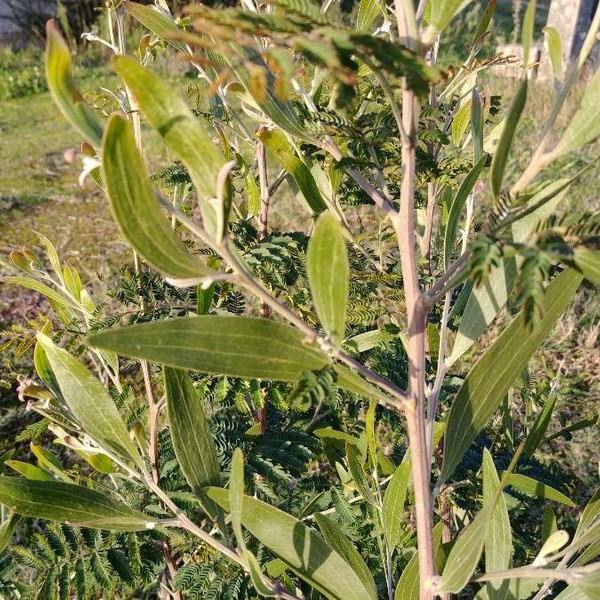obstacle: (78, 35, 574, 593)
